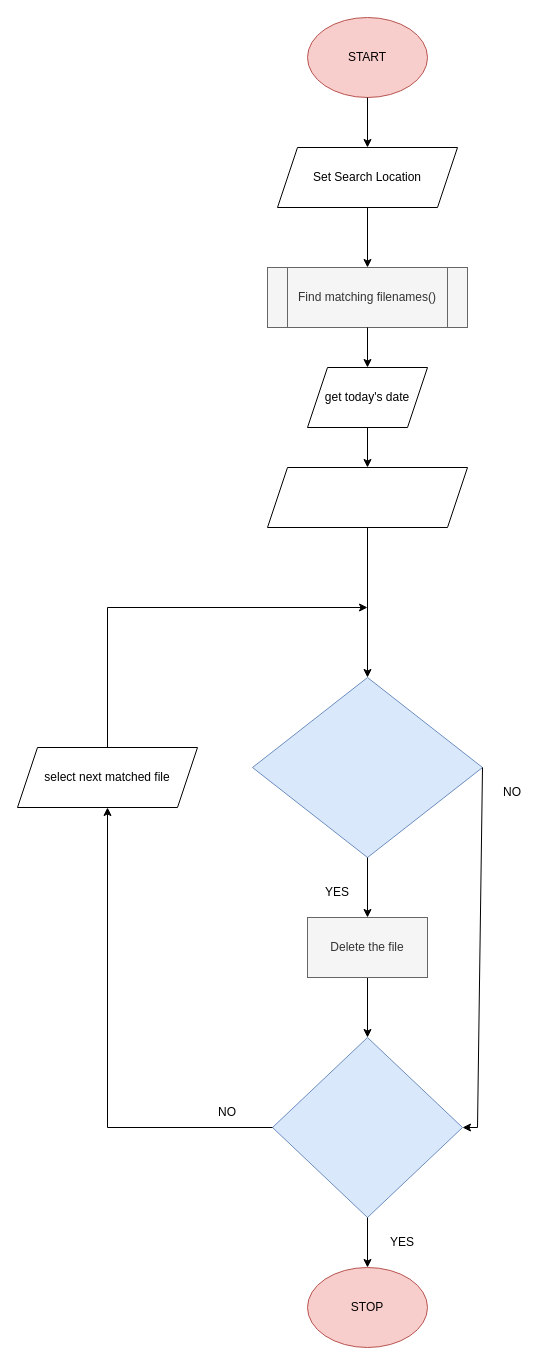
Some shapes in this 560 by 1365 pixel diagram are drawn without their labels. The centre of each missing label's shape, as x and y in pixels:
"Have we checked all matched filenames?" goes at (x=367, y=1127).
"Is the file creation date < today's date?" goes at (x=367, y=767).
"select first matched file" goes at (x=367, y=497).
